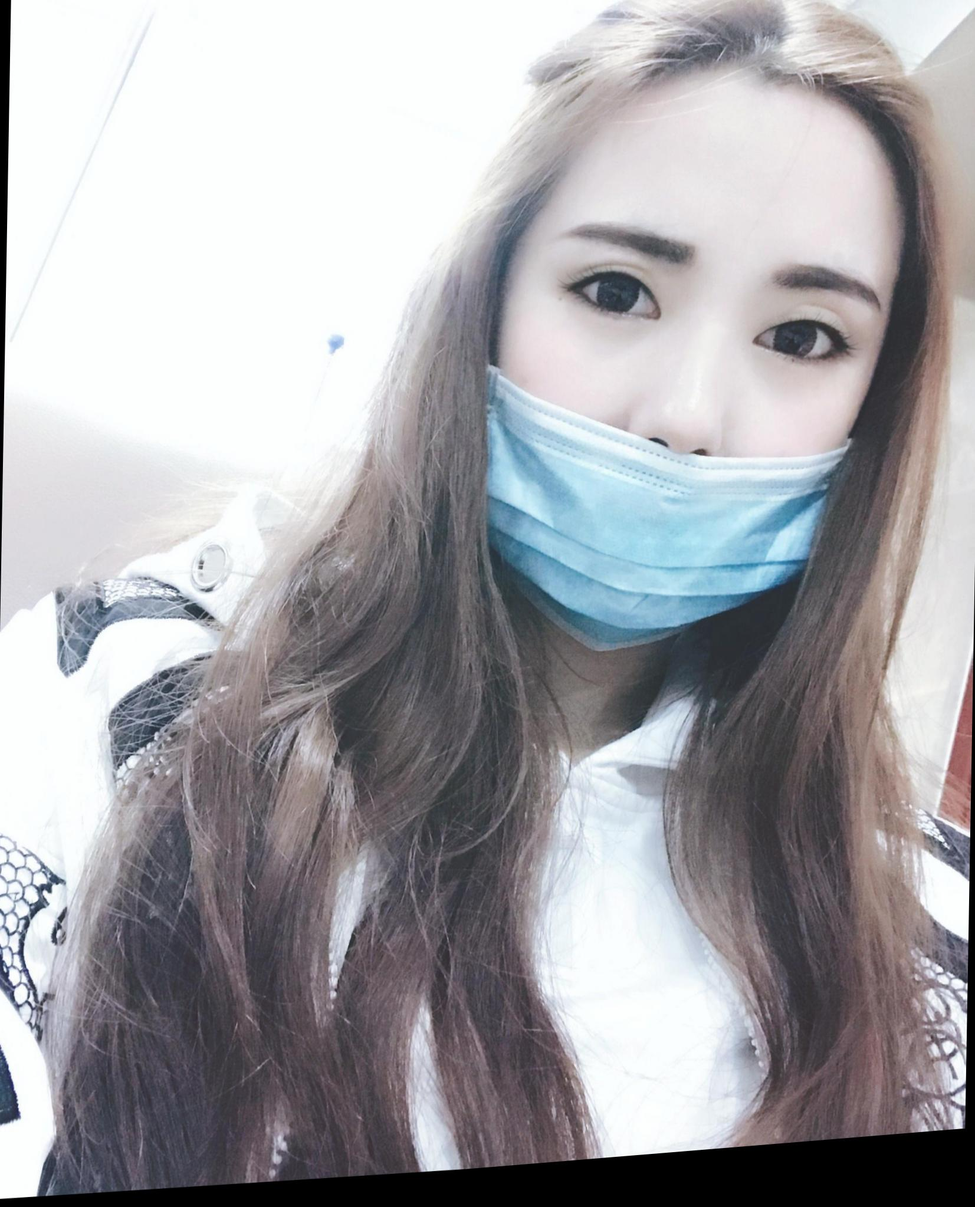WRONG: (477, 195, 904, 649)
